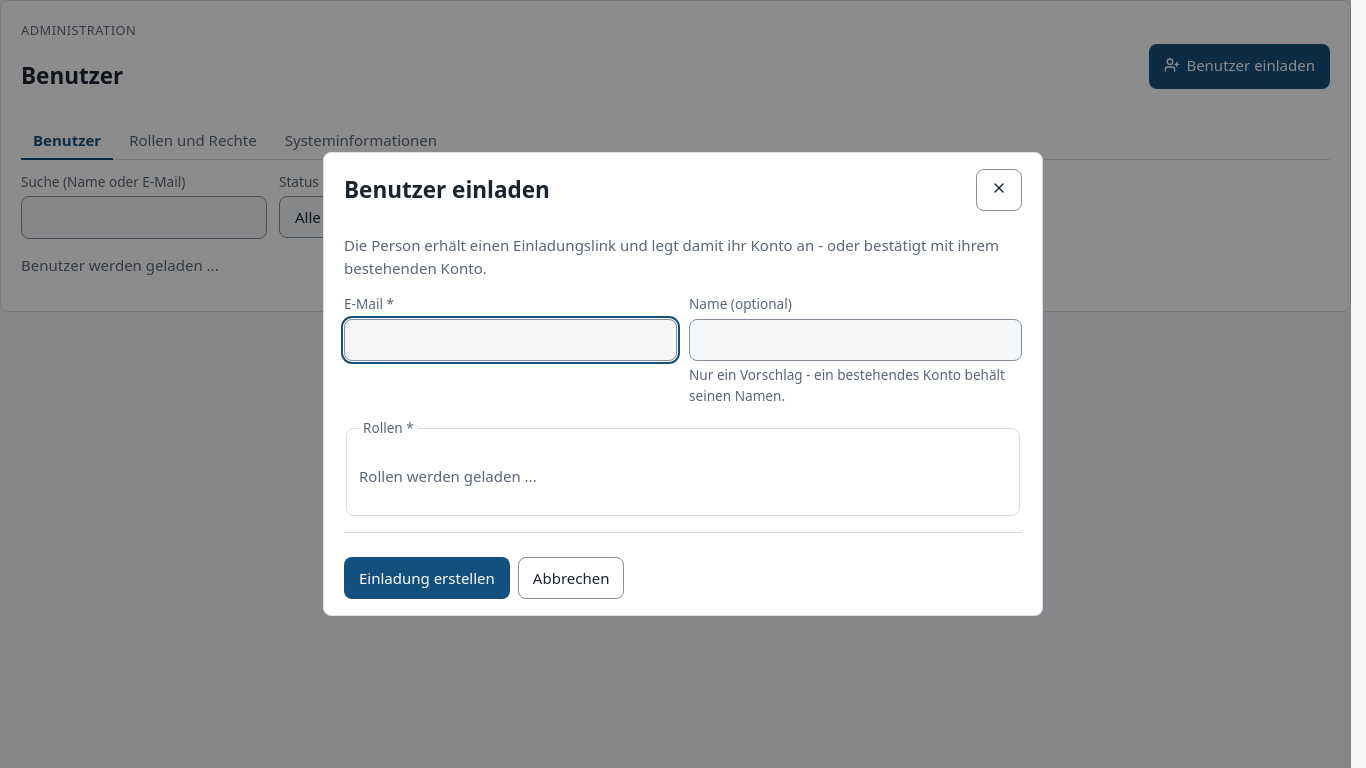
Test case: Einladen und Einladungen verwalten › zeigt den Entwicklungslink genau nach dem Anlegen
The width and height of the screenshot is (1366, 768).
Type "neu@test.example" into the field labelled "E-Mail *" at (510, 340), box [344,319,677,361]
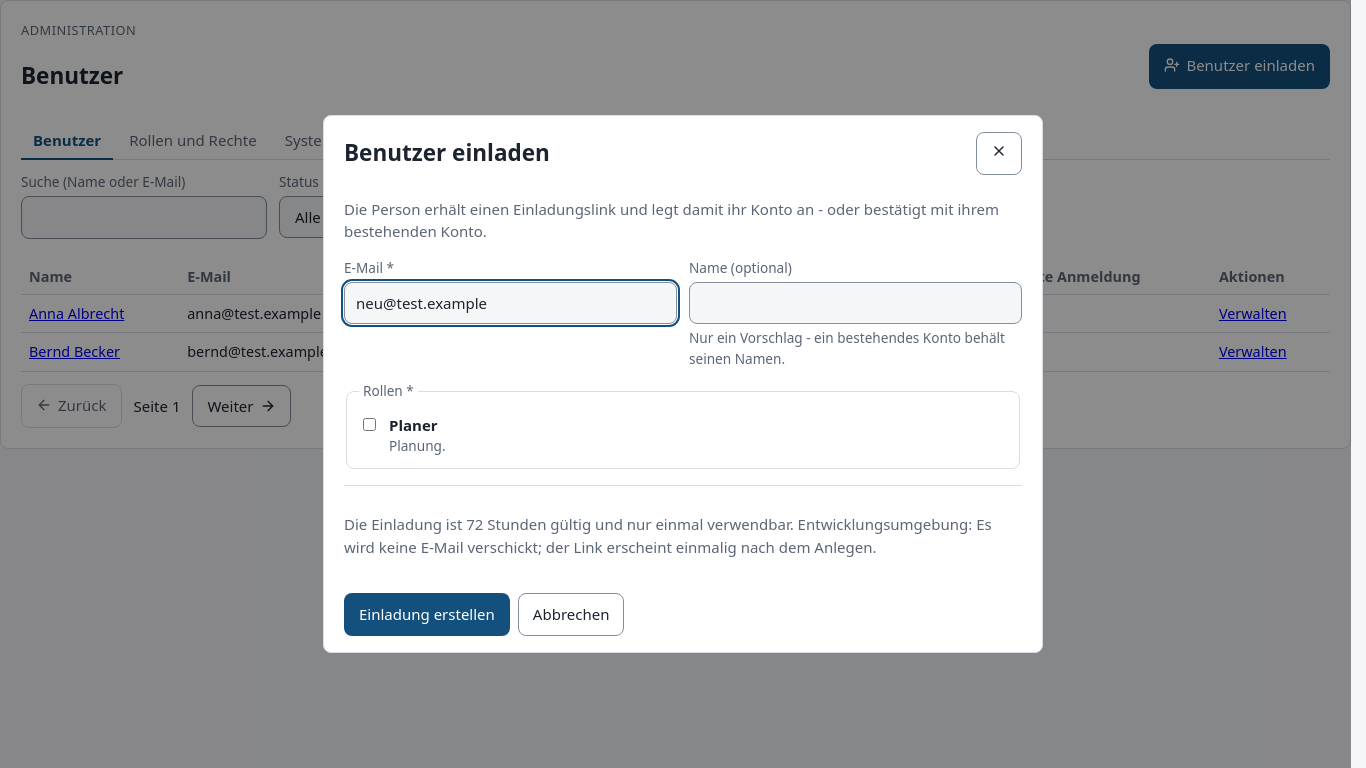
Click the checkbox labelled "Planer Planung." at (370, 424), box [363,418,376,431]
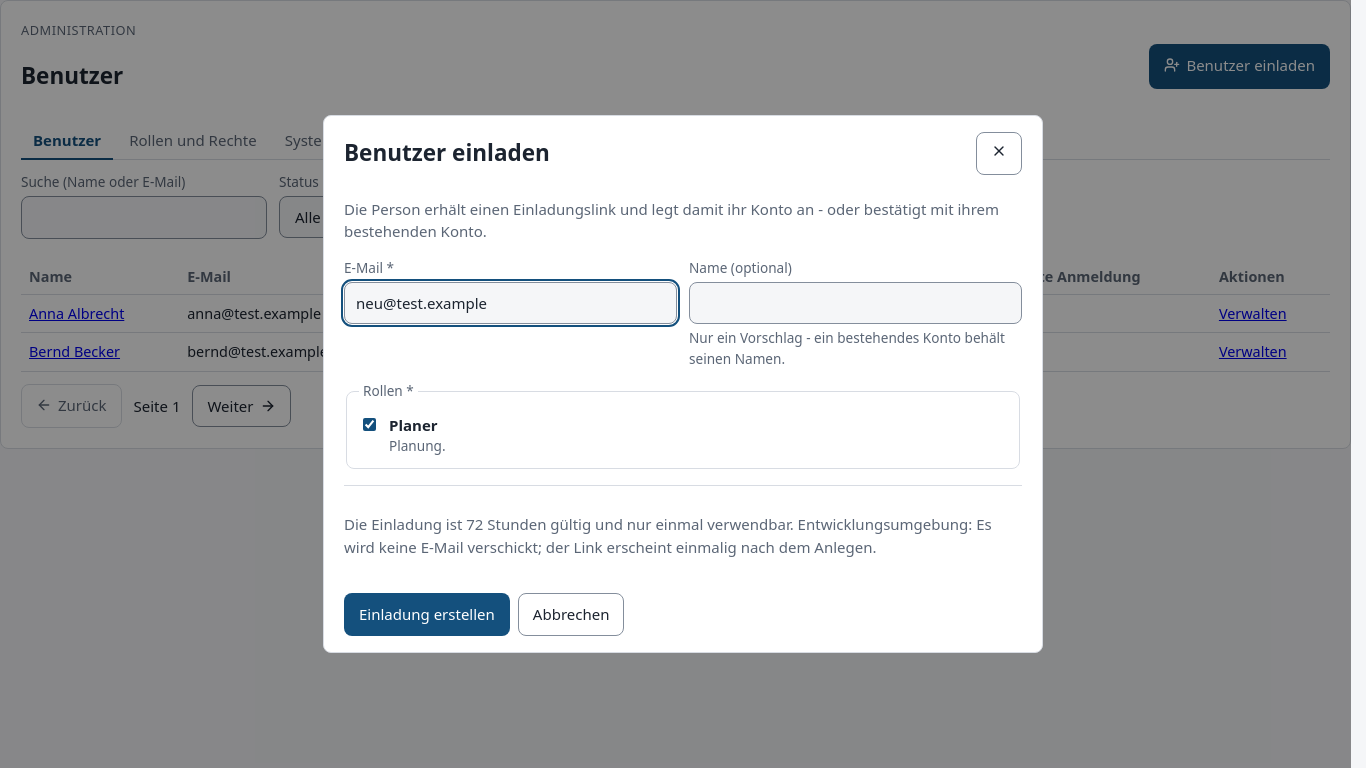
Click the button "Einladung erstellen" at (427, 615), box [344,594,510,636]
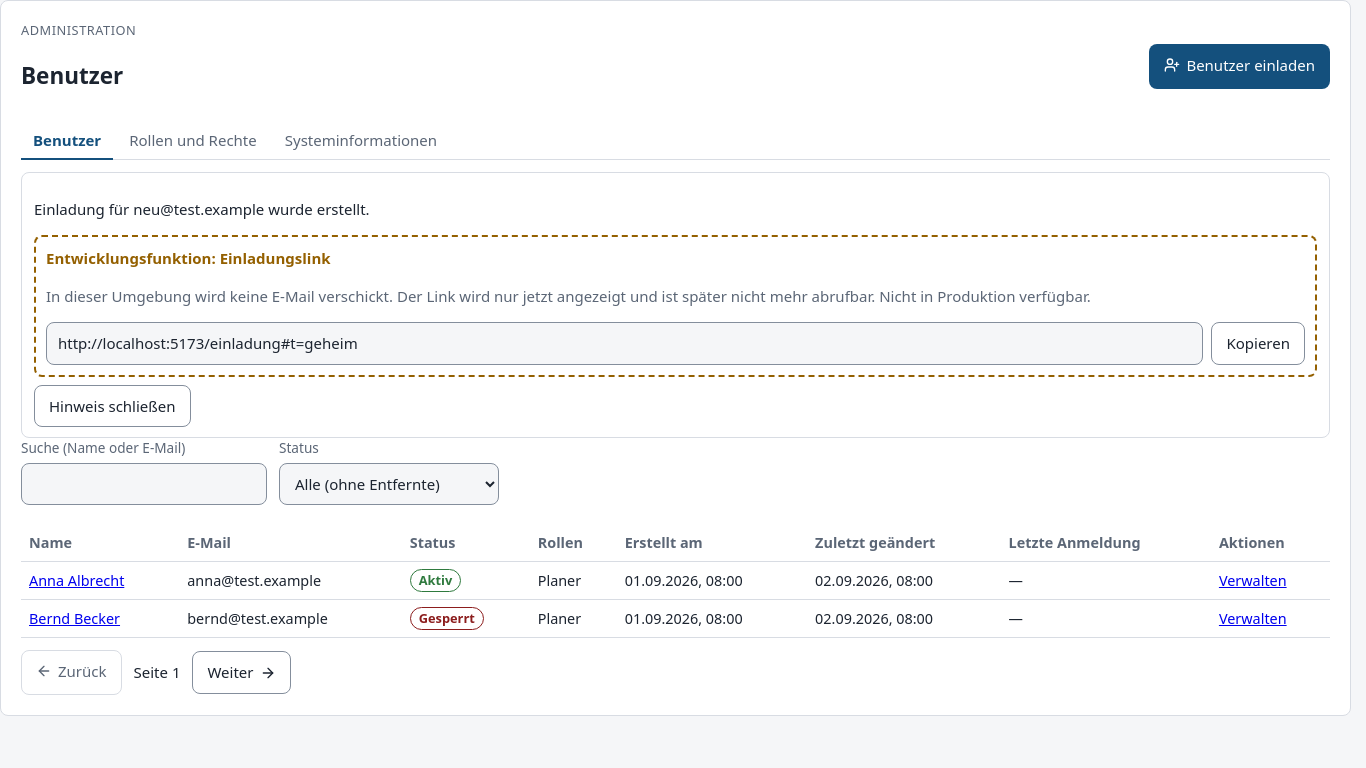
Expected: the text "Einladung für neu@test.example wurde erstellt." is shown, [34,199,370,219]
Expected: the text "Entwicklungsfunktion: Einladungslink" is shown, [46,248,331,268]
Expected: the field named "Einladungslink" holds "http://localhost:5173/einladung#t=geheim", [46,322,1204,365]
// Einmalig: Nach dem Schließen des Hinweises ist der Link weg.
Click the button "Hinweis schließen" at (112, 406), box [34,385,190,427]
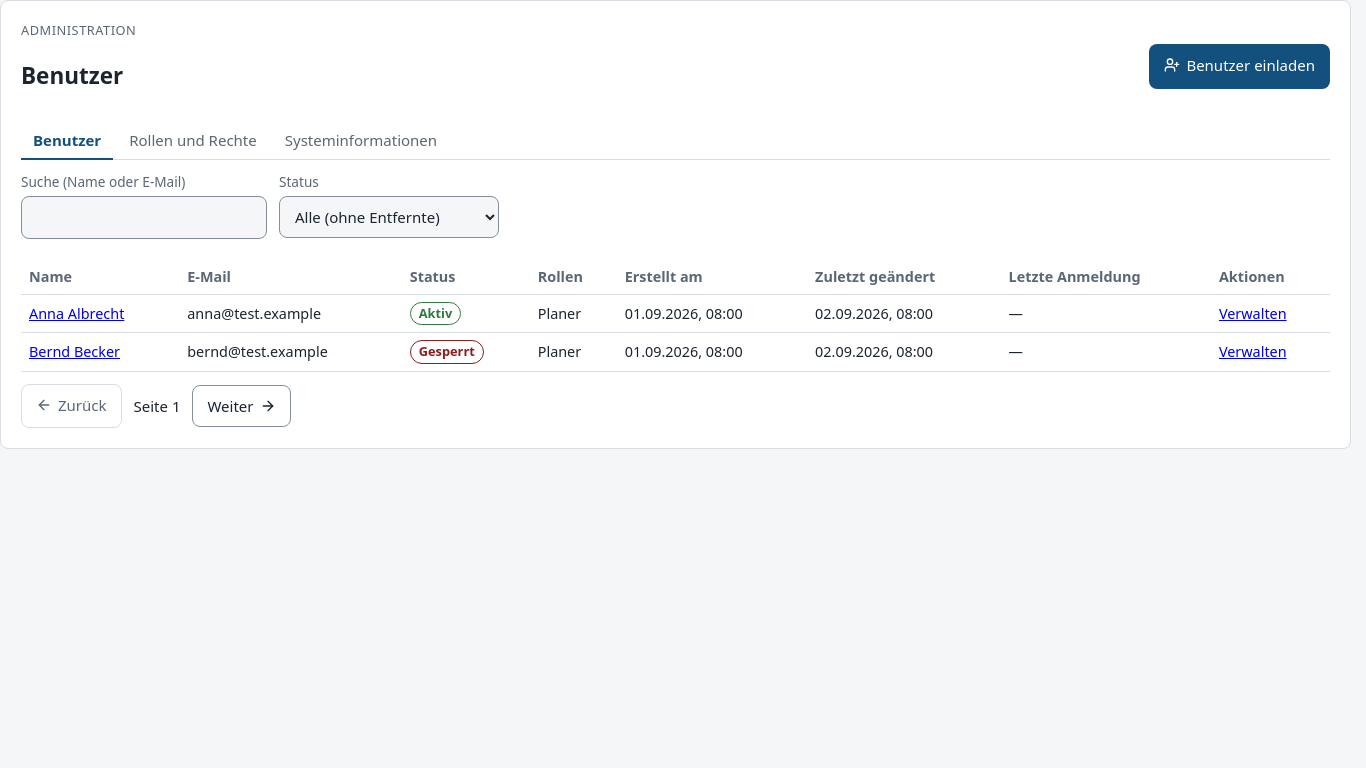
Expected: the text labelled "Einladungslink" is gone
